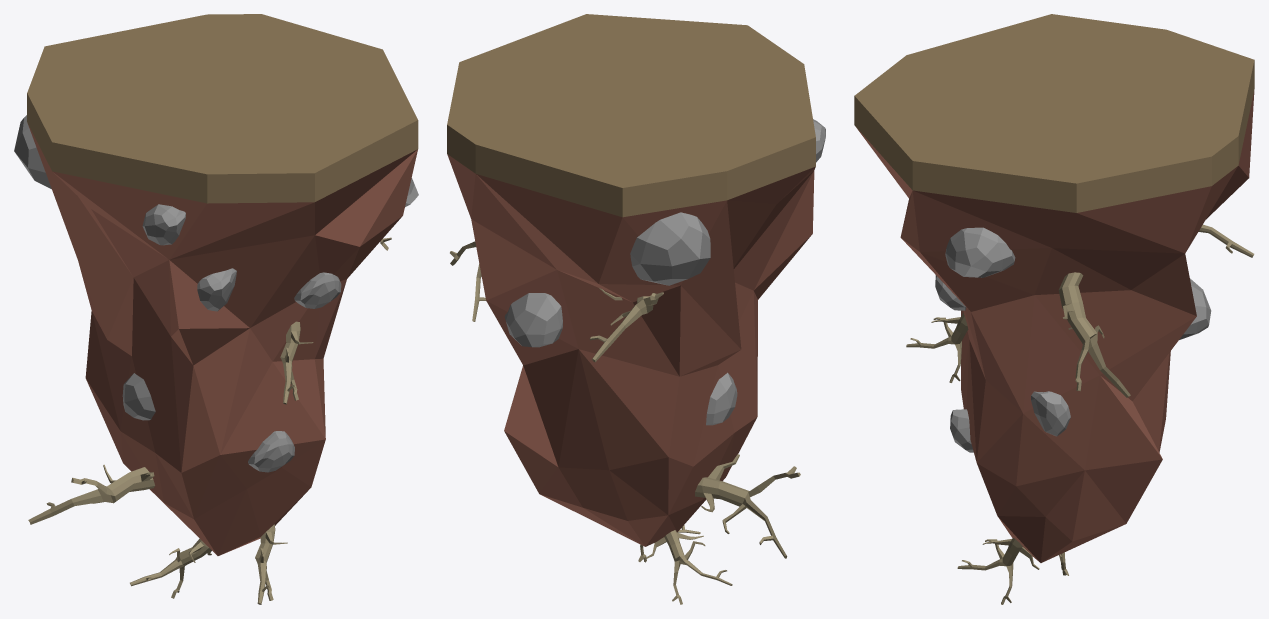
The model's file is 01_03Island_Brown.fbx.
The picture shows the model from 3 angles, left to right: view 1: azimuth 30°, elevation 25°; view 2: azimuth 150°, elevation 25°; view 3: azimuth 270°, elevation 25°; orthographic projection.
Parts seen in each view (by area): view 1: Cube.016; view 2: Cube.016; view 3: Cube.016.
Boxes of the visible parts, <box> form: Cube.016: <box>14,14,418,604</box>; Cube.016: <box>447,14,825,604</box>; Cube.016: <box>854,14,1254,604</box>.
Size of the model in its own units: 877 by 1171 by 852.
